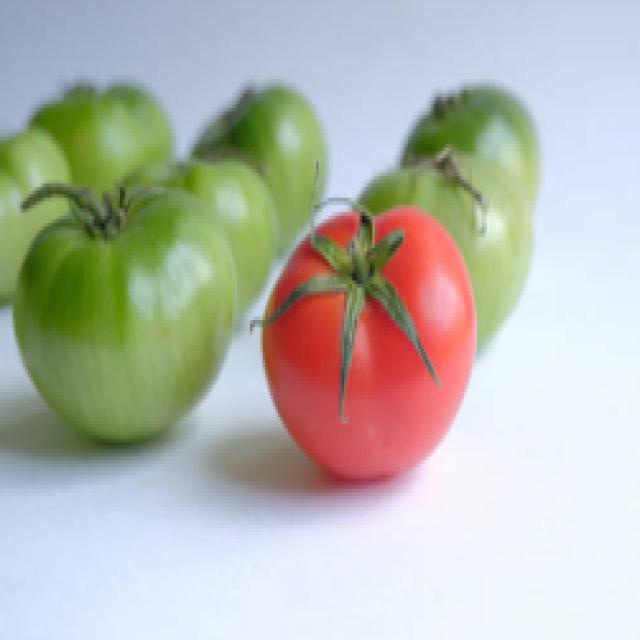Tomato: (274, 215, 470, 477)
